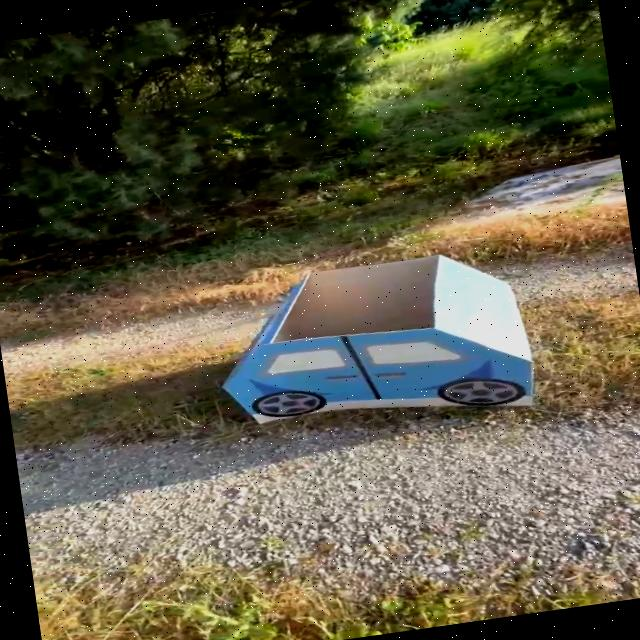blue_car: (156, 229, 609, 455)
